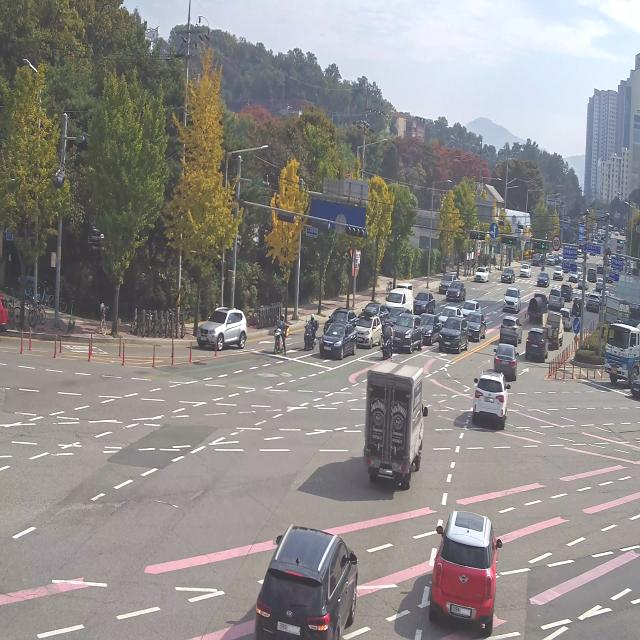Car: (426, 483, 498, 640), (263, 527, 359, 640), (188, 298, 252, 360), (469, 372, 508, 440), (320, 317, 356, 361), (524, 326, 553, 378), (437, 315, 470, 360), (392, 311, 426, 354), (352, 309, 381, 346), (497, 312, 519, 353), (491, 349, 516, 383), (387, 286, 415, 314), (419, 308, 442, 339), (503, 286, 521, 321), (365, 298, 389, 324), (328, 302, 356, 324), (468, 311, 484, 348), (438, 269, 458, 293), (474, 257, 490, 286), (546, 286, 562, 314), (447, 282, 466, 303), (438, 300, 457, 319), (414, 290, 432, 310), (462, 298, 480, 318), (569, 295, 585, 317), (558, 306, 572, 330), (534, 267, 550, 287), (586, 290, 600, 310), (500, 265, 512, 288), (530, 250, 546, 266), (577, 273, 590, 291), (585, 265, 597, 284), (521, 260, 532, 280), (552, 264, 564, 282), (595, 276, 607, 292), (563, 280, 572, 300), (599, 290, 612, 303), (568, 269, 578, 282), (595, 261, 604, 275), (575, 264, 585, 276), (546, 254, 554, 267), (558, 252, 564, 264), (552, 255, 559, 265)
Motorcycle: (294, 304, 323, 364), (270, 307, 290, 365), (378, 324, 394, 359), (540, 261, 545, 273)
Truck: (366, 354, 430, 489), (603, 306, 640, 385), (547, 309, 567, 353), (525, 289, 543, 326)
